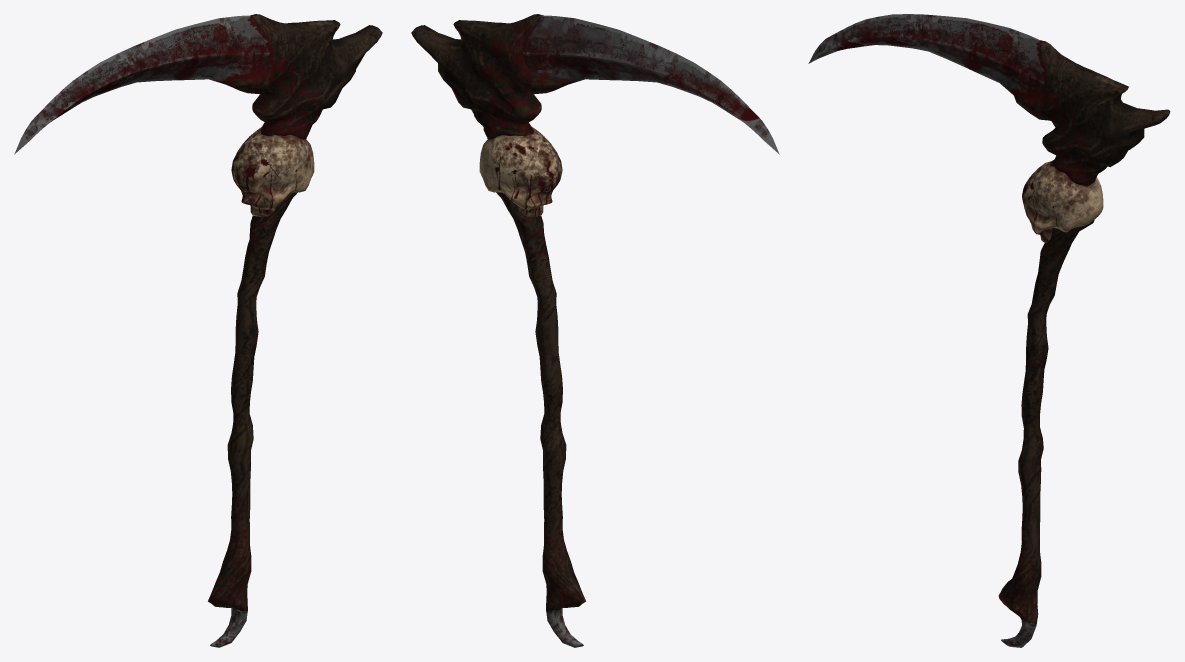
The picture shows the model from 3 angles, left to right: view 1: azimuth 30°, elevation 25°; view 2: azimuth 150°, elevation 25°; view 3: azimuth 330°, elevation 25°; orthographic projection.
Visible parts, largest first — view 1: weapon_grim; view 2: weapon_grim; view 3: weapon_grim.
Part boxes in pixels (x1=…): weapon_grim: x1=14, y1=14, x2=382, y2=647; weapon_grim: x1=411, y1=14, x2=779, y2=647; weapon_grim: x1=808, y1=14, x2=1170, y2=647.
Bounding box in the file's own units: 0.9983 × 1.65 × 0.1587.
1 material, 1 textured.
